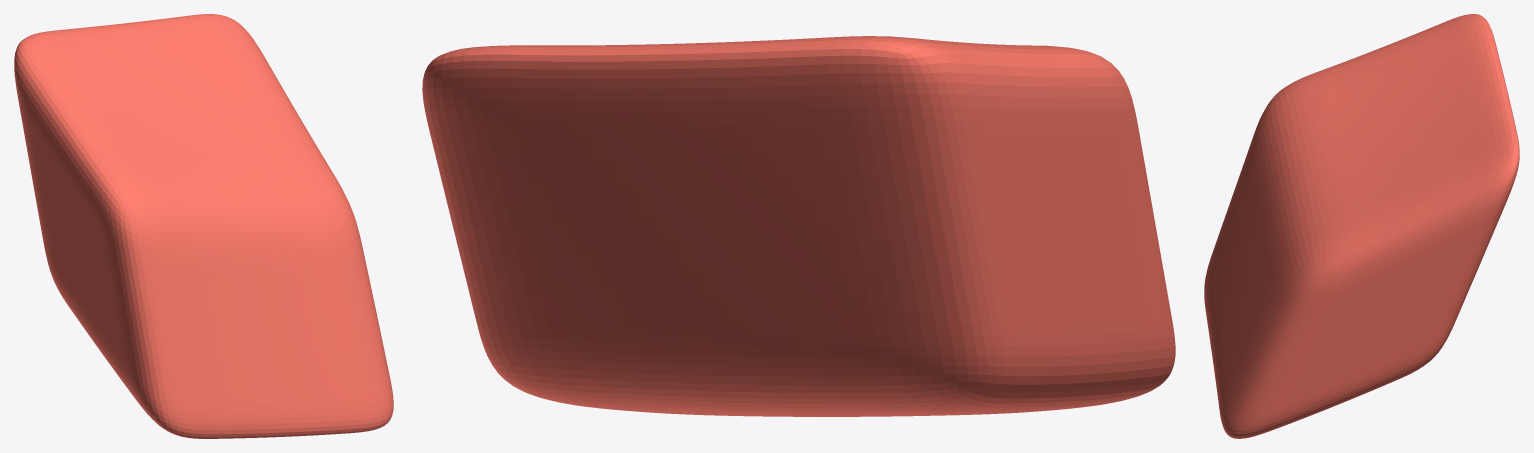
3 views of the same model, side by side, from view 1: azimuth 30°, elevation 25°; view 2: azimuth 150°, elevation 25°; view 3: azimuth 270°, elevation 25° (orthographic). The views are drawn at different scales.
Parts seen in each view (by area): view 1: waves_1.053; view 2: waves_1.053; view 3: waves_1.053.
Boxes of the visible parts, x1=… form: waves_1.053: x1=14, y1=14, x2=393, y2=438; waves_1.053: x1=422, y1=36, x2=1175, y2=416; waves_1.053: x1=1204, y1=14, x2=1519, y2=438.
Bounding box in the file's own units: 30.45 × 37.19 × 33.19.
